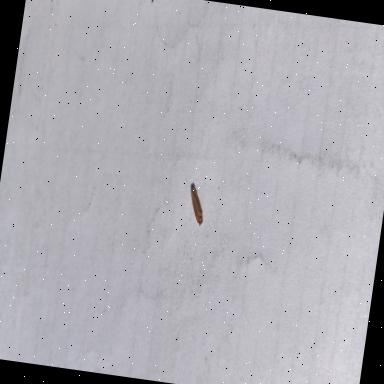pbw: (184, 184, 210, 232)
